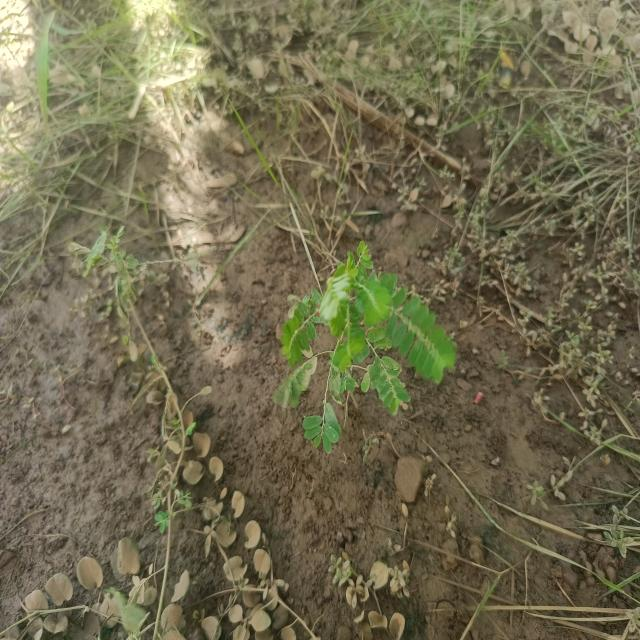weed: (277, 242, 455, 455)
